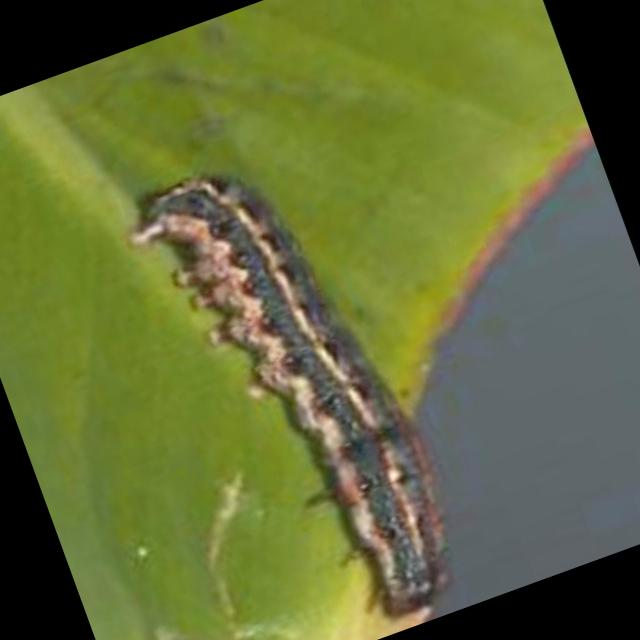Tobacco cutworm: (62, 53, 563, 640)
